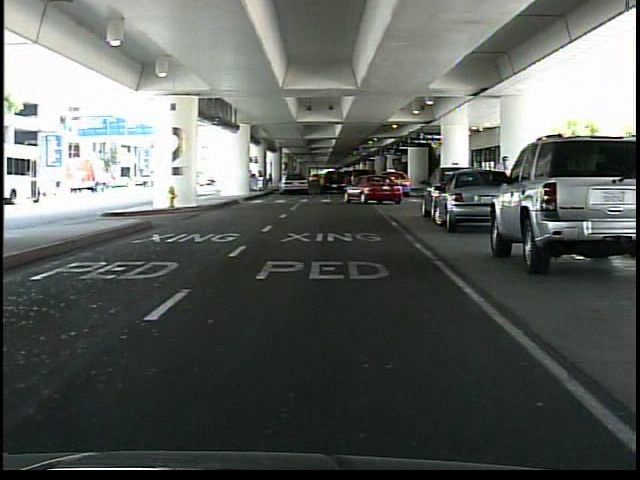person: (493, 152, 517, 221)
